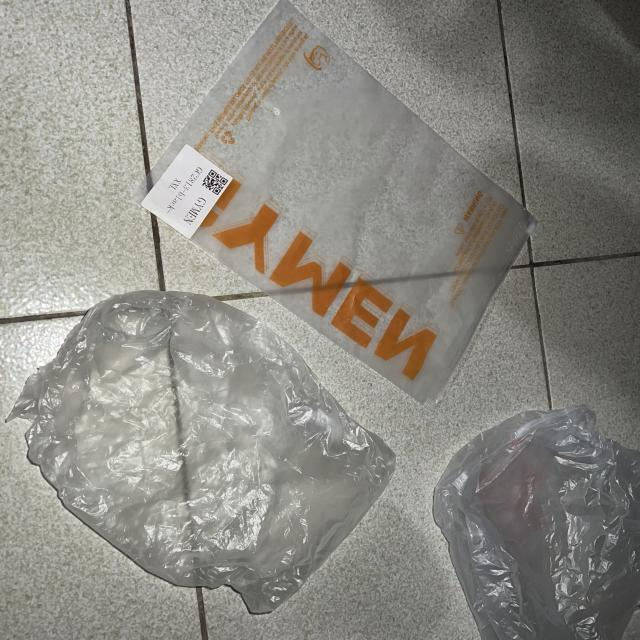Single-layer Plastic: (154, 0, 534, 399), (9, 291, 395, 613), (432, 396, 640, 639)
